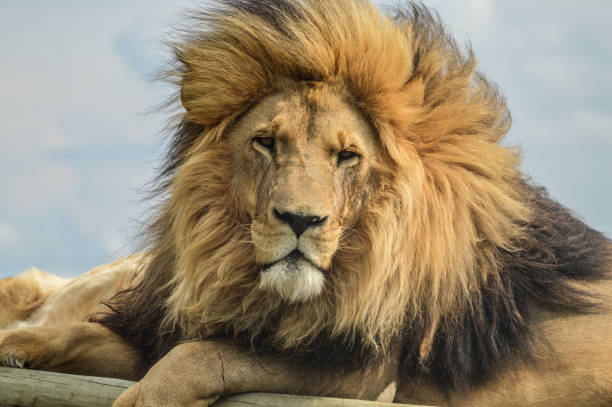lion: (118, 3, 574, 391)
